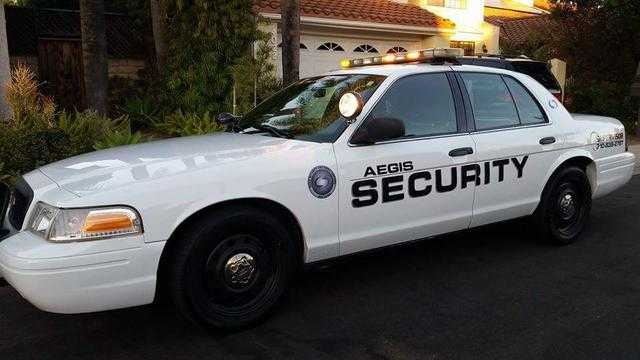Police Car: (10, 23, 640, 335)
